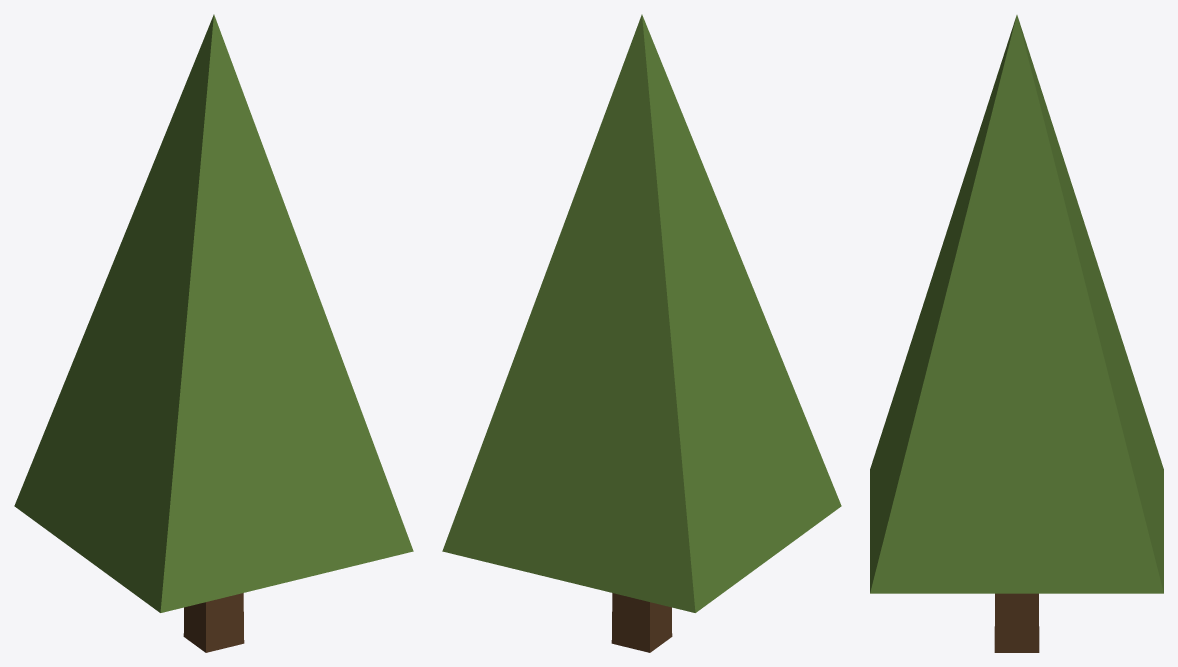
File: PR_pineTreeVar3_01.fbx
The picture shows the model from 3 angles, left to right: view 1: azimuth 30°, elevation 25°; view 2: azimuth 150°, elevation 25°; view 3: azimuth 270°, elevation 25°; orthographic projection.
Visible parts, largest first — view 1: Cone.006, PR_pineTreeVar3_01; view 2: Cone.006, PR_pineTreeVar3_01; view 3: Cone.006, PR_pineTreeVar3_01.
Boxes of the visible parts, left/top/right/bottom form: Cone.006: left=14, top=14, right=413, bottom=612; PR_pineTreeVar3_01: left=183, top=593, right=244, bottom=652; Cone.006: left=442, top=14, right=841, bottom=612; PR_pineTreeVar3_01: left=611, top=593, right=672, bottom=652; Cone.006: left=870, top=15, right=1163, bottom=593; PR_pineTreeVar3_01: left=994, top=593, right=1039, bottom=652.
Bounding box in the file's own units: 283 × 669 × 283.
